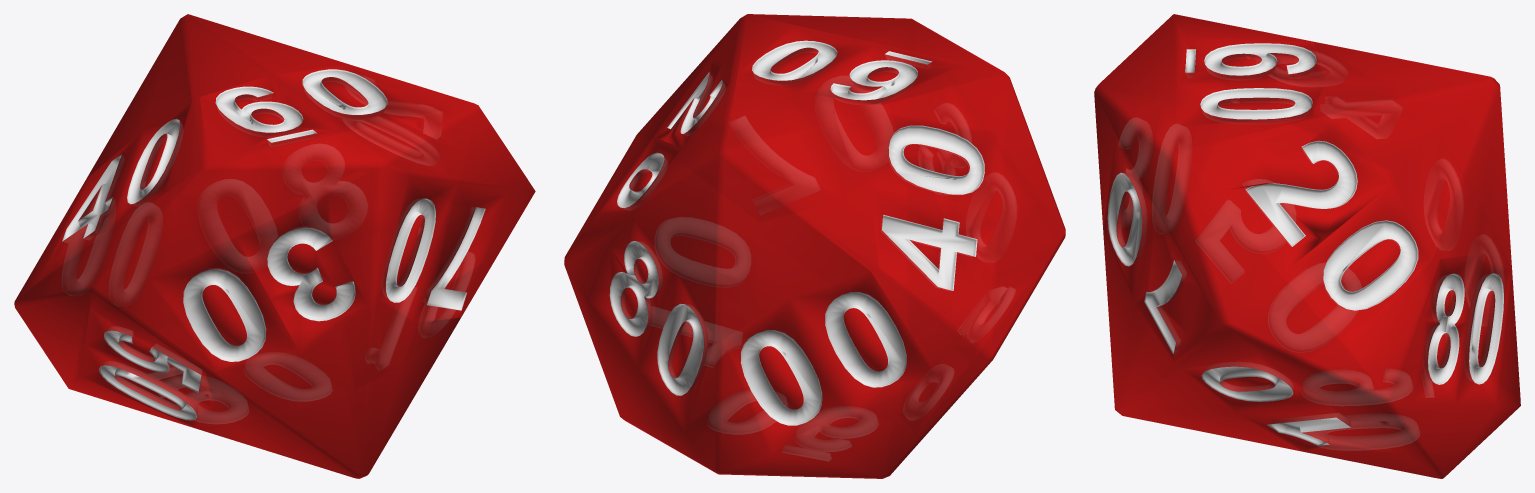
3 renders of one model, left to right at view 1: azimuth 30°, elevation 25°; view 2: azimuth 150°, elevation 25°; view 3: azimuth 270°, elevation 25°, orthographic. The views are drawn at different scales.
Visible parts, largest first — view 1: 100_Sided; view 2: 100_Sided; view 3: 100_Sided.
Part boxes in pixels (<box>): 100_Sided: <box>14,14,535,478</box>; 100_Sided: <box>564,14,1065,478</box>; 100_Sided: <box>1094,14,1520,478</box>.
Bounding box in the file's own units: 11.86 × 8.55 × 9.65.
